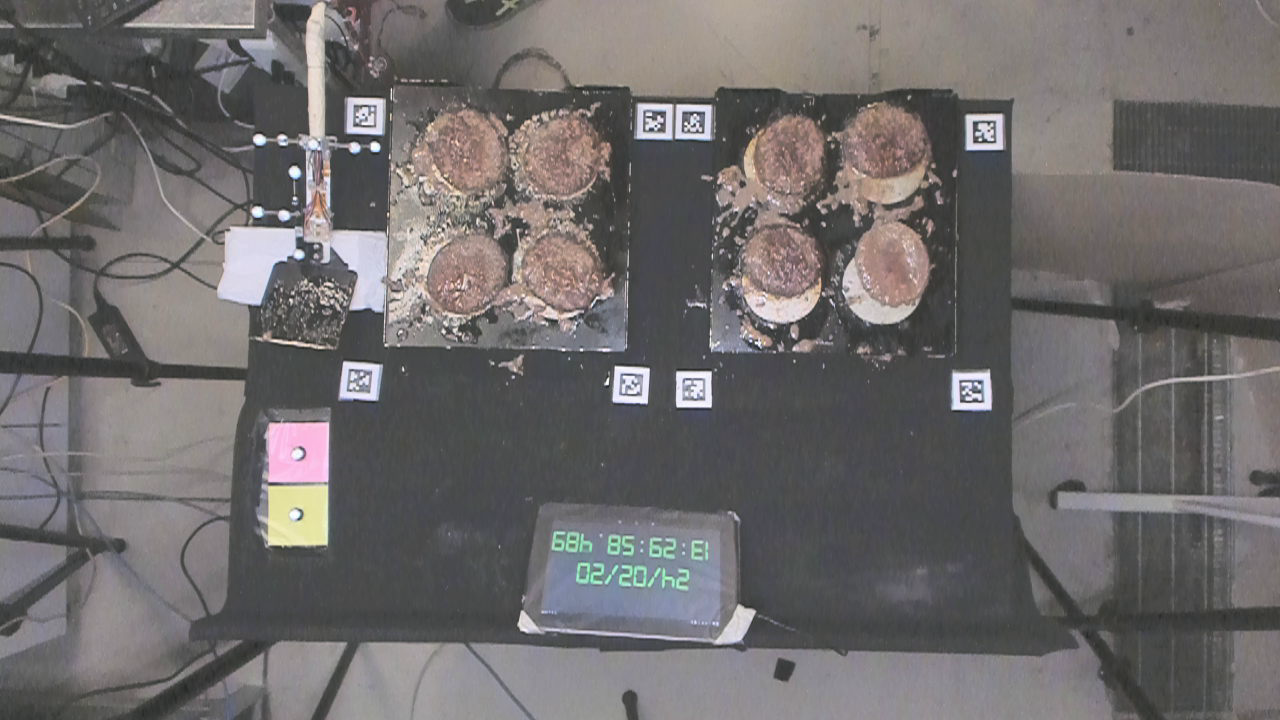hamburger: (420, 229, 509, 316), (425, 108, 509, 197), (851, 216, 933, 307), (517, 113, 603, 198), (521, 231, 602, 315), (751, 111, 826, 198), (739, 218, 822, 294), (846, 103, 929, 175)
marker: (265, 419, 332, 484)
